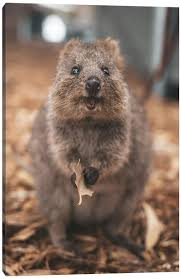quokka: (16, 36, 157, 265)
